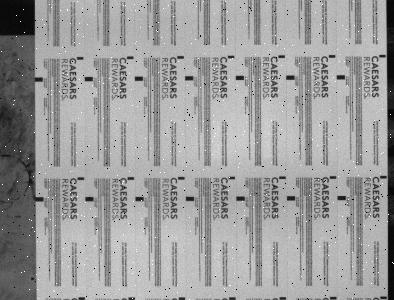qblock: (286, 75, 295, 80), (185, 76, 194, 81), (85, 197, 94, 202), (287, 196, 296, 201), (135, 76, 143, 81), (236, 75, 244, 80), (35, 77, 43, 82), (237, 196, 245, 201), (338, 196, 346, 201), (35, 197, 43, 202), (135, 197, 144, 201), (337, 75, 345, 79), (85, 77, 93, 81), (186, 197, 194, 201)
smallqblock: (228, 55, 235, 59), (380, 54, 387, 58), (178, 176, 185, 180), (280, 296, 287, 300), (179, 296, 186, 300), (128, 176, 134, 180), (381, 175, 387, 179), (229, 297, 237, 300), (77, 57, 84, 60), (229, 176, 236, 179), (78, 297, 85, 300), (330, 296, 337, 299), (128, 297, 135, 300), (381, 296, 388, 299), (127, 56, 134, 59), (329, 55, 336, 58), (279, 55, 285, 58), (178, 56, 184, 59), (78, 177, 84, 180), (280, 176, 286, 179), (330, 176, 336, 179)
